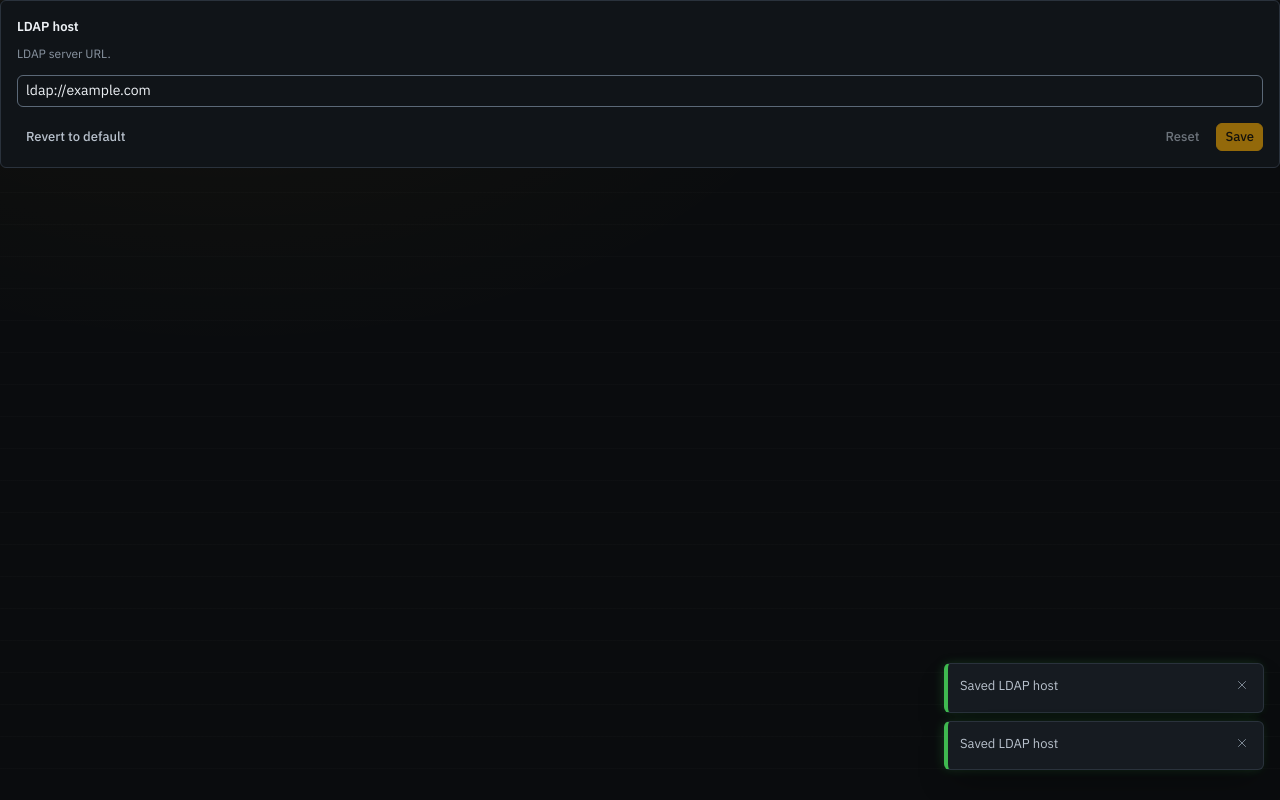
Test: SettingCard › Reset returns the input to initialValue and re-disables both buttons
Type "X" into the field labelled "LDAP host" at (640, 90), box [18, 80, 1262, 101]
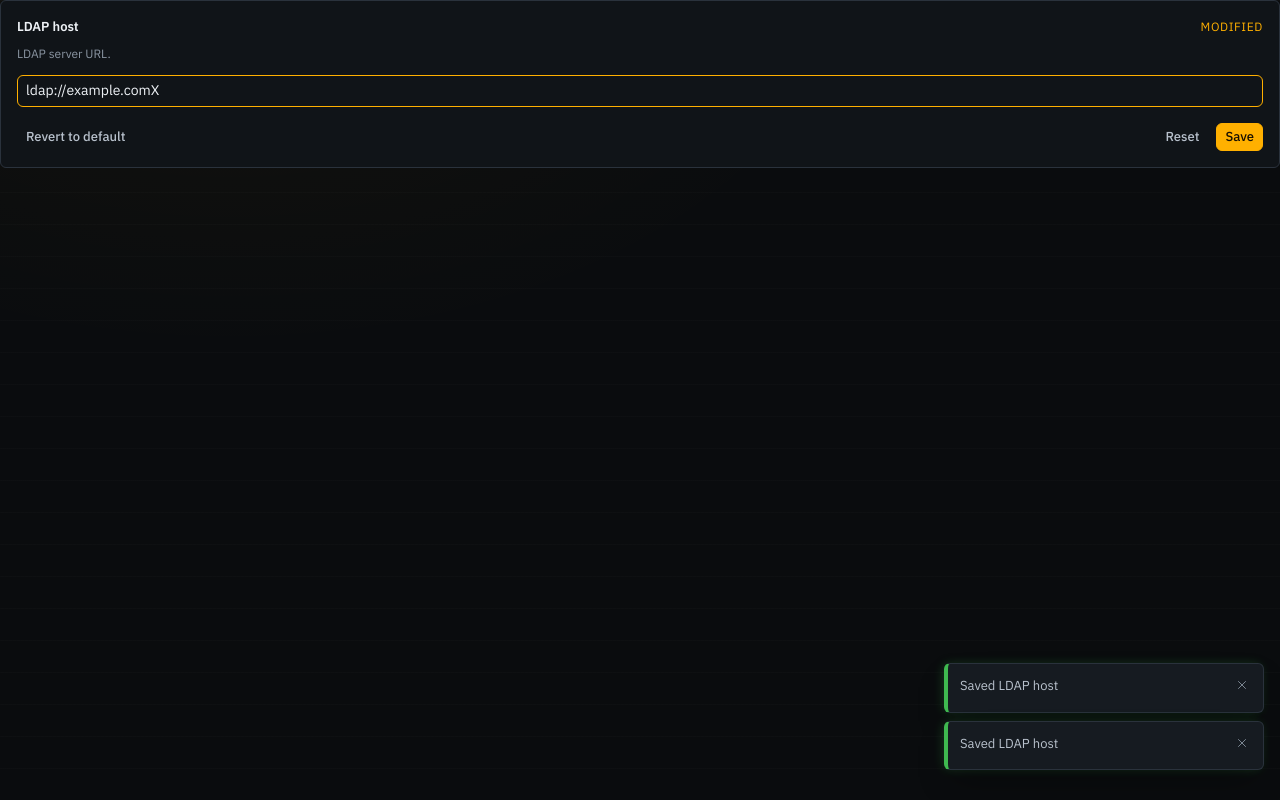
Now the field labelled "LDAP host" holds "ldap://example.comX", box [18, 80, 1262, 101]
Now the button "Reset" is enabled
Click the button "Reset" at (1182, 136), box [1156, 122, 1208, 150]
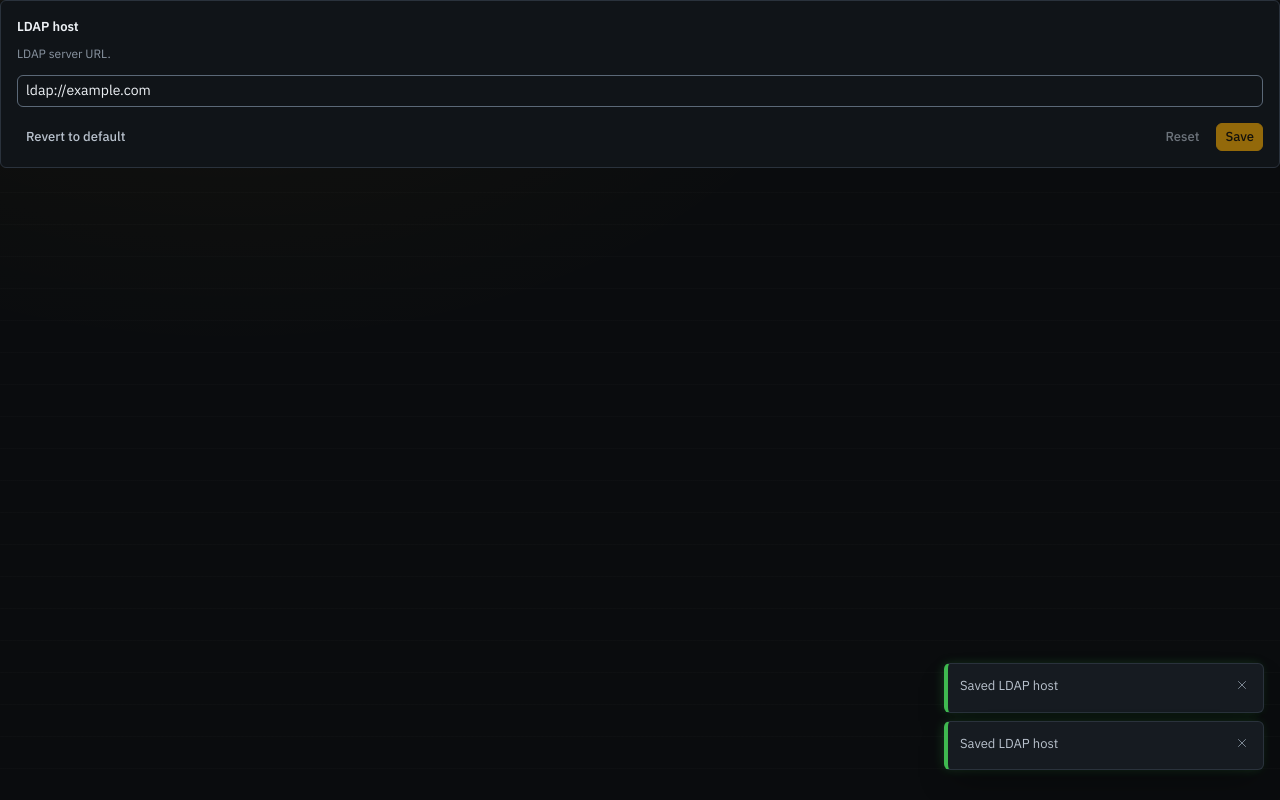
Now the field labelled "LDAP host" holds "ldap://example.com", box [18, 80, 1262, 101]
Now the button "Reset" is disabled, box [1156, 122, 1208, 150]
Now the button "Save" is disabled, box [1216, 122, 1263, 150]
